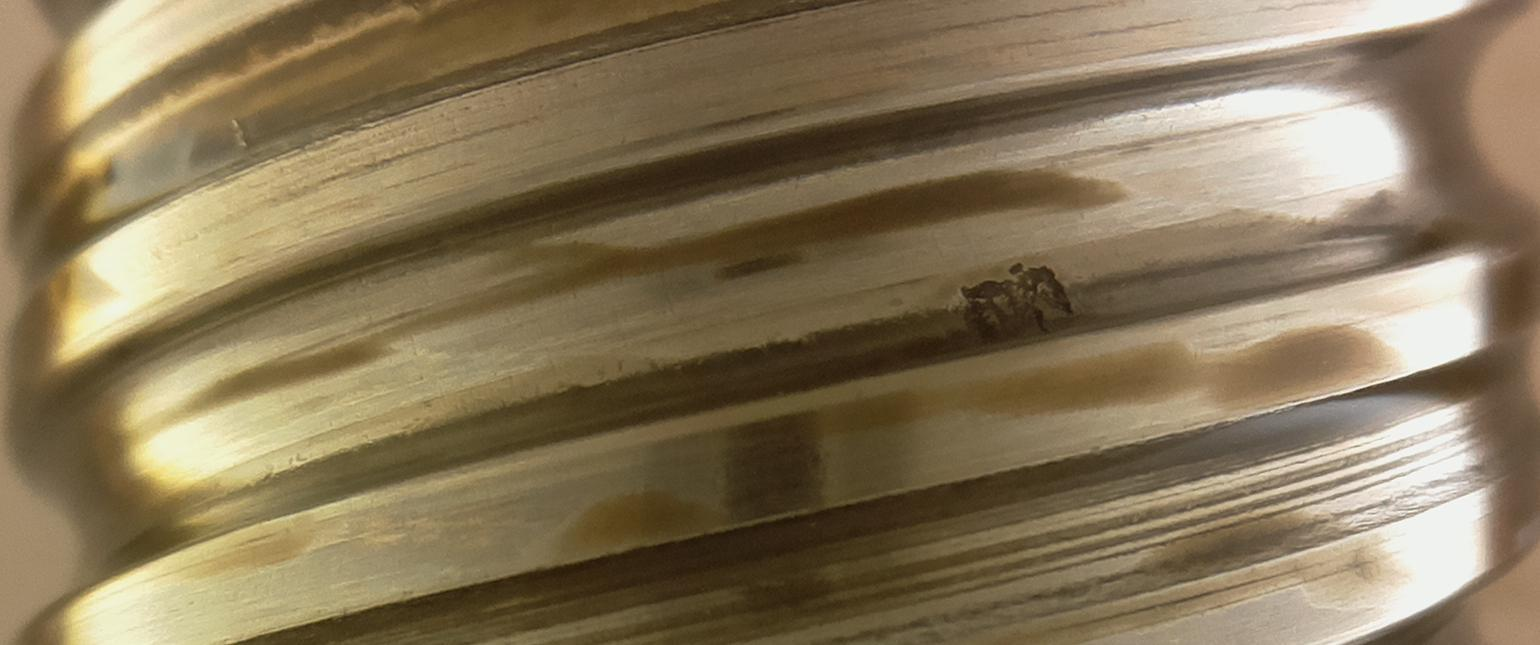pitting: (960, 263, 1072, 344)
